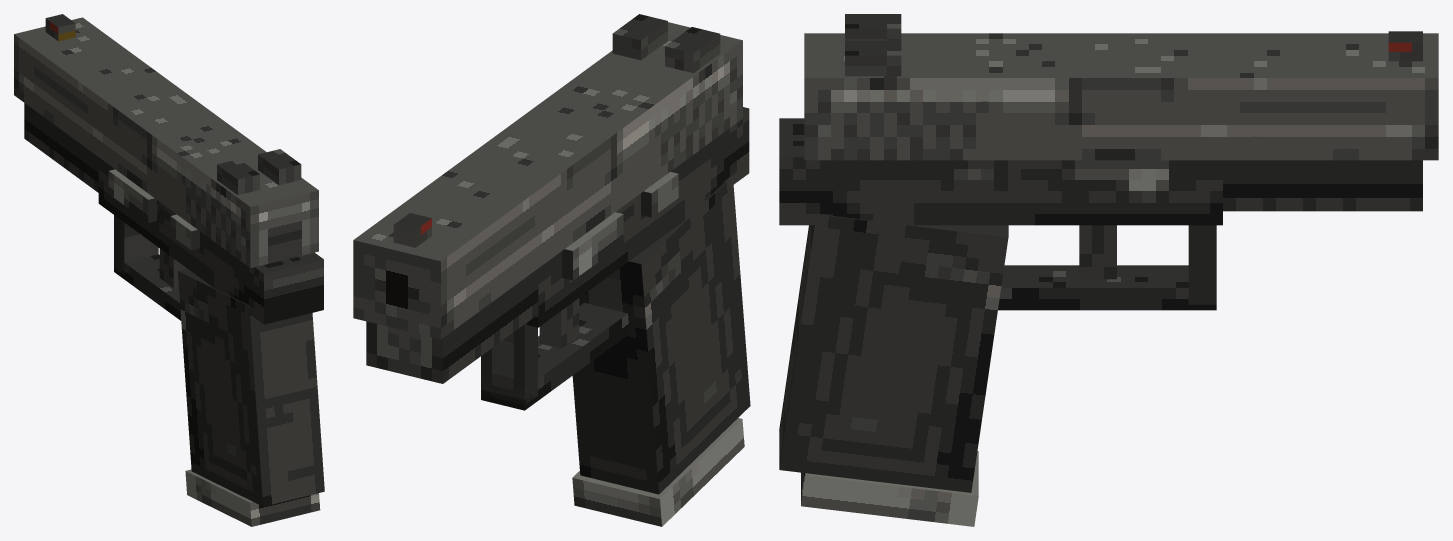
The model's file is sig_p320.glb.
3 renders of one model, left to right at view 1: azimuth 30°, elevation 25°; view 2: azimuth 150°, elevation 25°; view 3: azimuth 270°, elevation 25°, orthographic. The views are drawn at different scales.
Parts seen in each view (by area): view 1: slide_body, grip, frame, base_plate, dust_cover, guard_bottom, takedown_lever, guard_front, rear_sight_R, rear_sight_L, slide_catch, front_sight (+1 smaller); view 2: slide_body, grip, frame, dust_cover, base_plate, guard_bottom, guard_front, takedown_lever, rear_sight_R, rear_sight_L, trigger, slide_catch (+1 smaller); view 3: slide_body, grip, frame, dust_cover, guard_bottom, base_plate, guard_front, trigger, rear_sight_R, rear_sight_L, front_sight.
Boxes of the visible parts, x1,y1,x2,y2 form: slide_body: (14,17,318,268); grip: (178,268,324,506); frame: (98,157,323,324); base_plate: (185,469,320,526); dust_cover: (24,103,98,192); guard_bottom: (114,254,181,320); takedown_lever: (108,169,156,222); guard_front: (114,215,158,274); rear_sight_R: (258,149,301,185); rear_sight_L: (217,159,259,195); slide_catch: (170,214,199,250); front_sight: (45,14,75,41); slide_body: (353,22,742,339); grip: (572,175,750,494); frame: (524,107,749,327); dust_cover: (366,269,538,383); base_plate: (572,418,744,526); guard_bottom: (481,303,628,410); guard_front: (481,324,537,404); takedown_lever: (562,212,623,280); rear_sight_R: (612,14,667,60); rear_sight_L: (665,27,720,73); trigger: (539,298,579,348); slide_catch: (641,172,678,217); slide_body: (804,33,1438,160); grip: (779,214,1008,492); frame: (779,118,1222,225); dust_cover: (1223,160,1422,211); guard_bottom: (998,265,1216,310); base_plate: (801,451,978,526); guard_front: (1188,225,1216,304); trigger: (1079,225,1116,279); rear_sight_R: (845,41,901,76); rear_sight_L: (845,14,901,40); front_sight: (1388,31,1422,61).
Bounding box in the file's own units: 0.0332 × 0.1525 × 0.194.
Materials: 1 (1 with a texture image).
